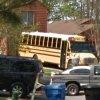Bus: (19, 24, 92, 66)
